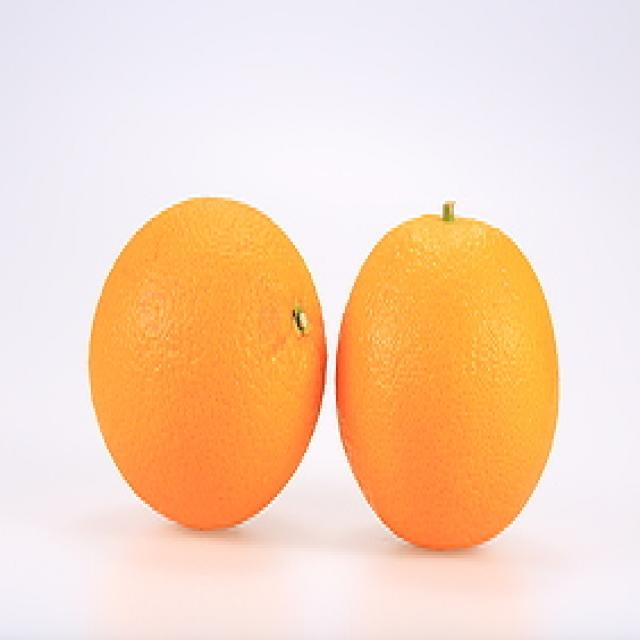orange: (77, 198, 555, 560)
